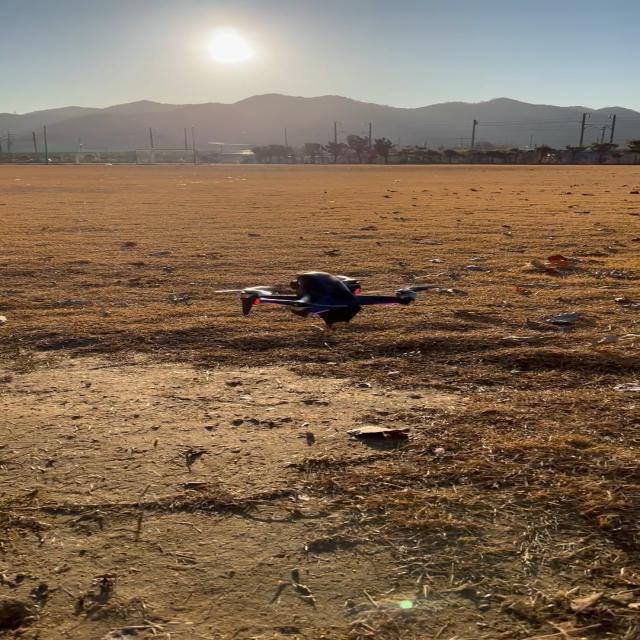drone: (212, 270, 438, 330)
